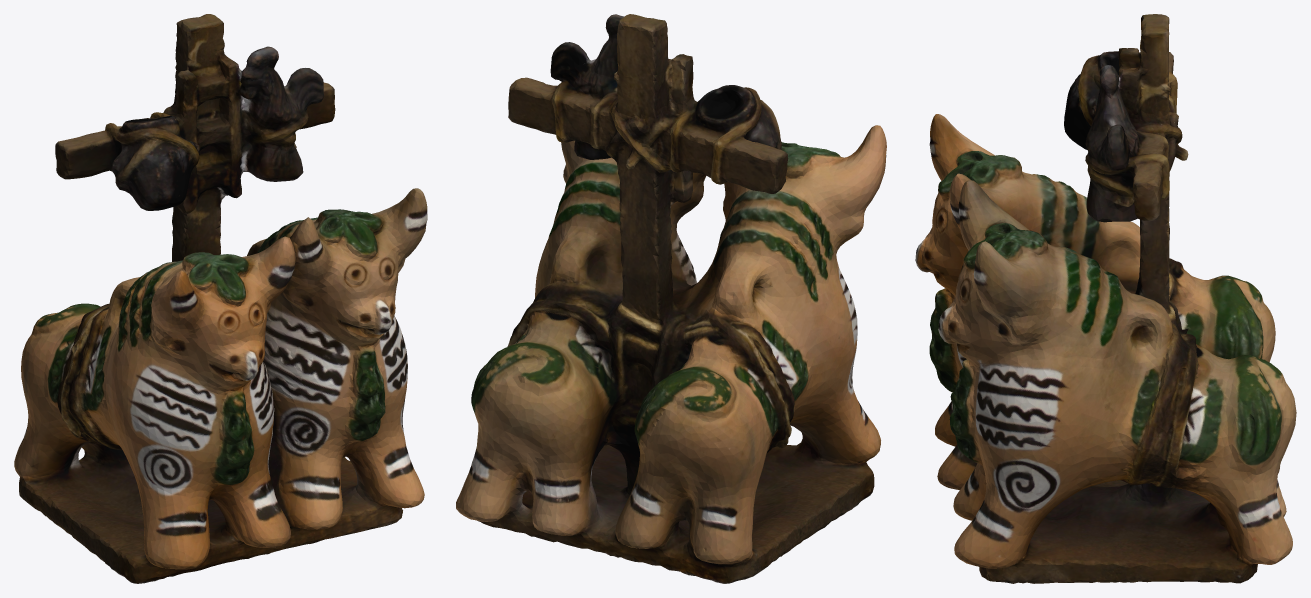
Rendered from toritos-camera.glb.
3 views of the same model, side by side, from view 1: azimuth 30°, elevation 25°; view 2: azimuth 150°, elevation 25°; view 3: azimuth 270°, elevation 25° (orthographic). The views are drawn at different scales.
Visible parts, largest first — view 1: toritos-camera; view 2: toritos-camera; view 3: toritos-camera.
Part boxes in pixels (x1=…): toritos-camera: x1=14, y1=14, x2=427, y2=583; toritos-camera: x1=456, y1=14, x2=886, y2=583; toritos-camera: x1=915, y1=14, x2=1296, y2=583.
Bounding box in the file's own units: 0.4806 × 0.7424 × 0.5124.
Materials: 1 (1 with a texture image).
